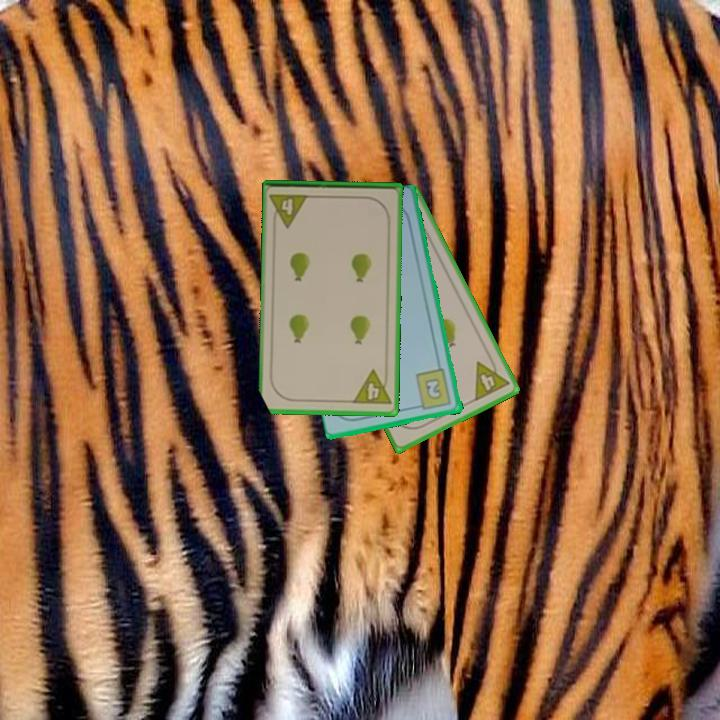2b: (412, 366, 454, 413)
4p: (471, 352, 512, 404), (349, 367, 394, 408), (267, 190, 312, 230)
